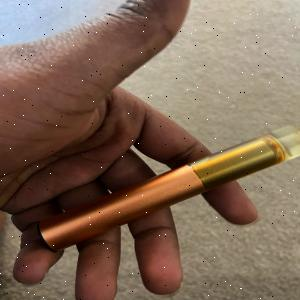Golden-E-Ciggirate: (32, 120, 300, 258)
